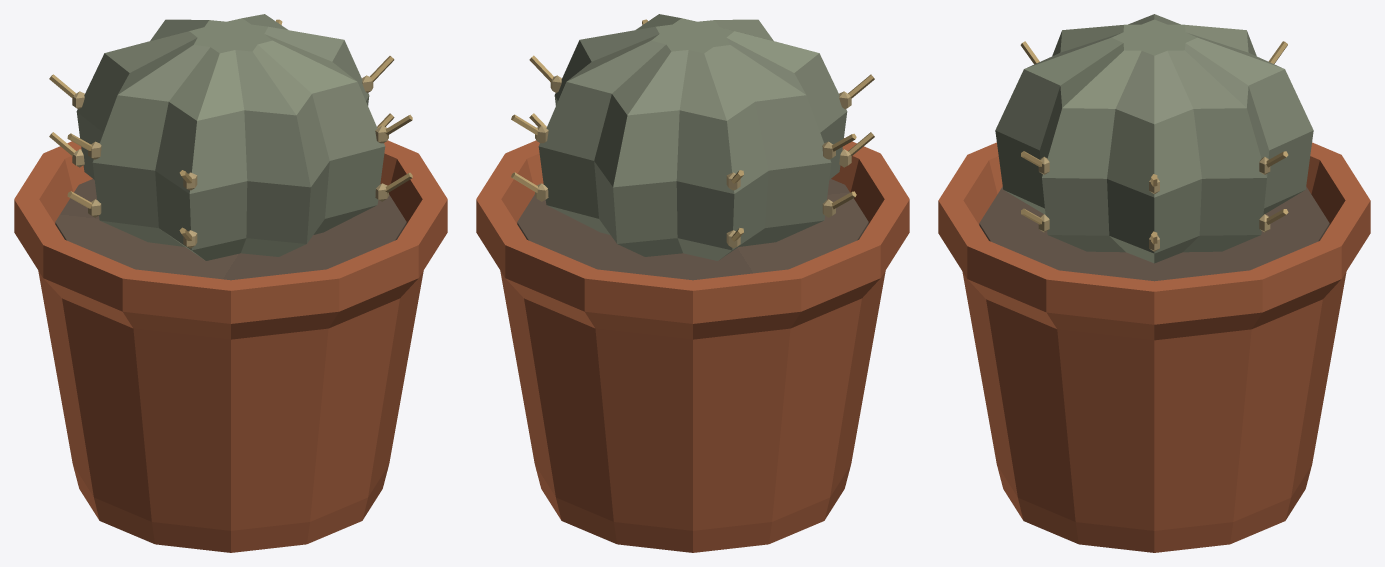
File: new-mihanovichii.glb
3 renders of one model, left to right at view 1: azimuth 30°, elevation 25°; view 2: azimuth 150°, elevation 25°; view 3: azimuth 270°, elevation 25°, orthographic.
Parts seen in each view (by area): view 1: new-mihanovichii/review-terra-vessel, new-mihanovichii/ribbed-stem-001, new-mihanovichii/review-rooted-soil; view 2: new-mihanovichii/review-terra-vessel, new-mihanovichii/ribbed-stem-001, new-mihanovichii/review-rooted-soil; view 3: new-mihanovichii/review-terra-vessel, new-mihanovichii/ribbed-stem-001, new-mihanovichii/review-rooted-soil.
Boxes of the visible parts, x1,y1,x2,y2 form: new-mihanovichii/review-terra-vessel: [14, 140, 447, 552]; new-mihanovichii/ribbed-stem-001: [76, 14, 385, 260]; new-mihanovichii/review-rooted-soil: [55, 179, 406, 280]; new-mihanovichii/review-terra-vessel: [476, 138, 909, 552]; new-mihanovichii/ribbed-stem-001: [538, 14, 847, 260]; new-mihanovichii/review-rooted-soil: [517, 179, 868, 280]; new-mihanovichii/review-terra-vessel: [938, 142, 1370, 552]; new-mihanovichii/ribbed-stem-001: [995, 14, 1313, 263]; new-mihanovichii/review-rooted-soil: [979, 186, 1329, 281].
Bounding box in the file's own units: 0.19 × 0.219 × 0.19.
5 materials, 5 textured.
